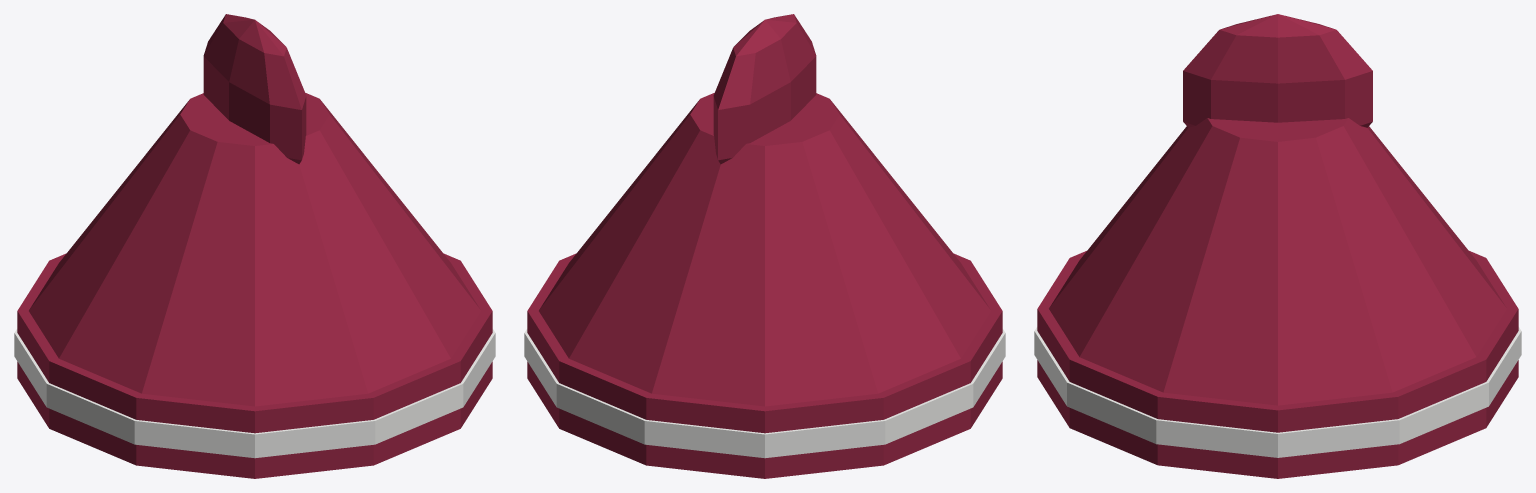
File: hat_petushok.glb
The picture shows the model from 3 angles, left to right: view 1: azimuth 30°, elevation 25°; view 2: azimuth 150°, elevation 25°; view 3: azimuth 270°, elevation 25°; orthographic projection.
Parts seen in each view (by area): view 1: Head; view 2: Head; view 3: Head.
Part boxes in pixels (x1,y1,x2,y2): Head: (14,14,495,478); Head: (524,14,1005,478); Head: (1034,14,1521,478).
Size of the model in its own units: 0.644 by 0.53 by 0.644.
